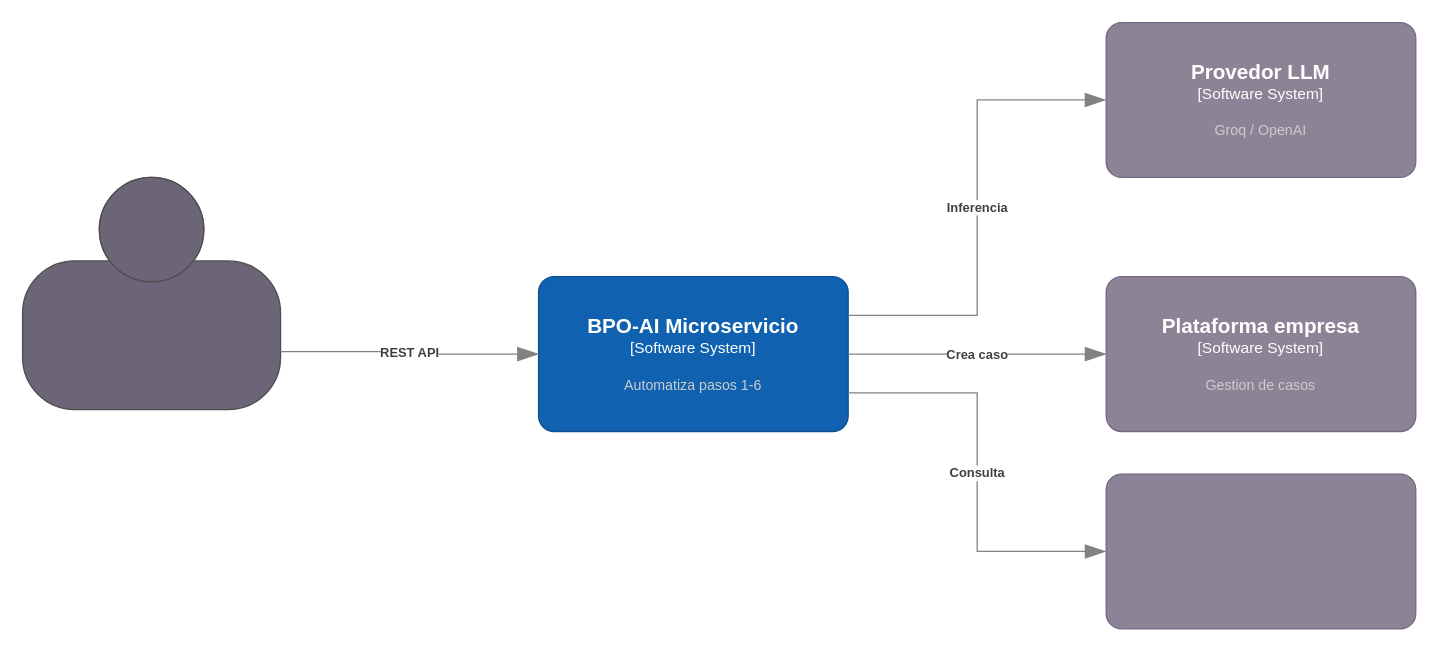
Some shapes in this 1438 by 651 pixel diagram are drawn without their labels. The shapes that lost their labels are listed below. From the top down, each one's centre as x and y in pixels, then its label:
At (x=151, y=293): "External person name [Person] Analista BPO".
At (x=1260, y=551): "Servicio prioridad [Software System] ejem. Mensajería del Valle".
